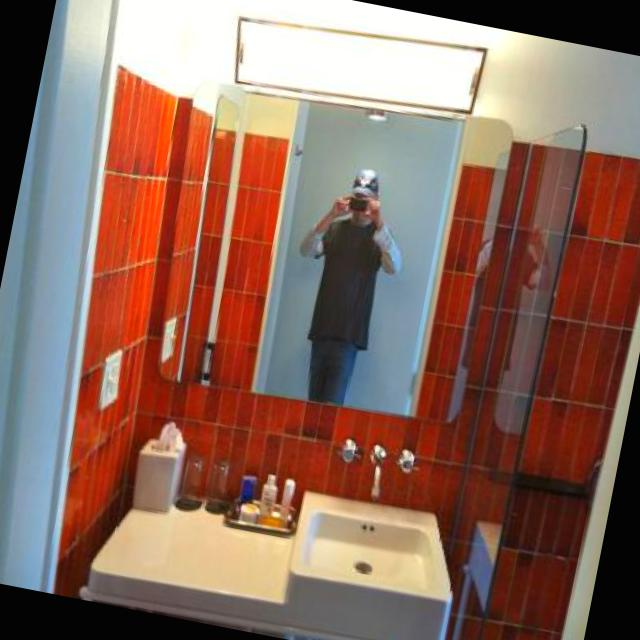Person: (276, 157, 422, 406)
